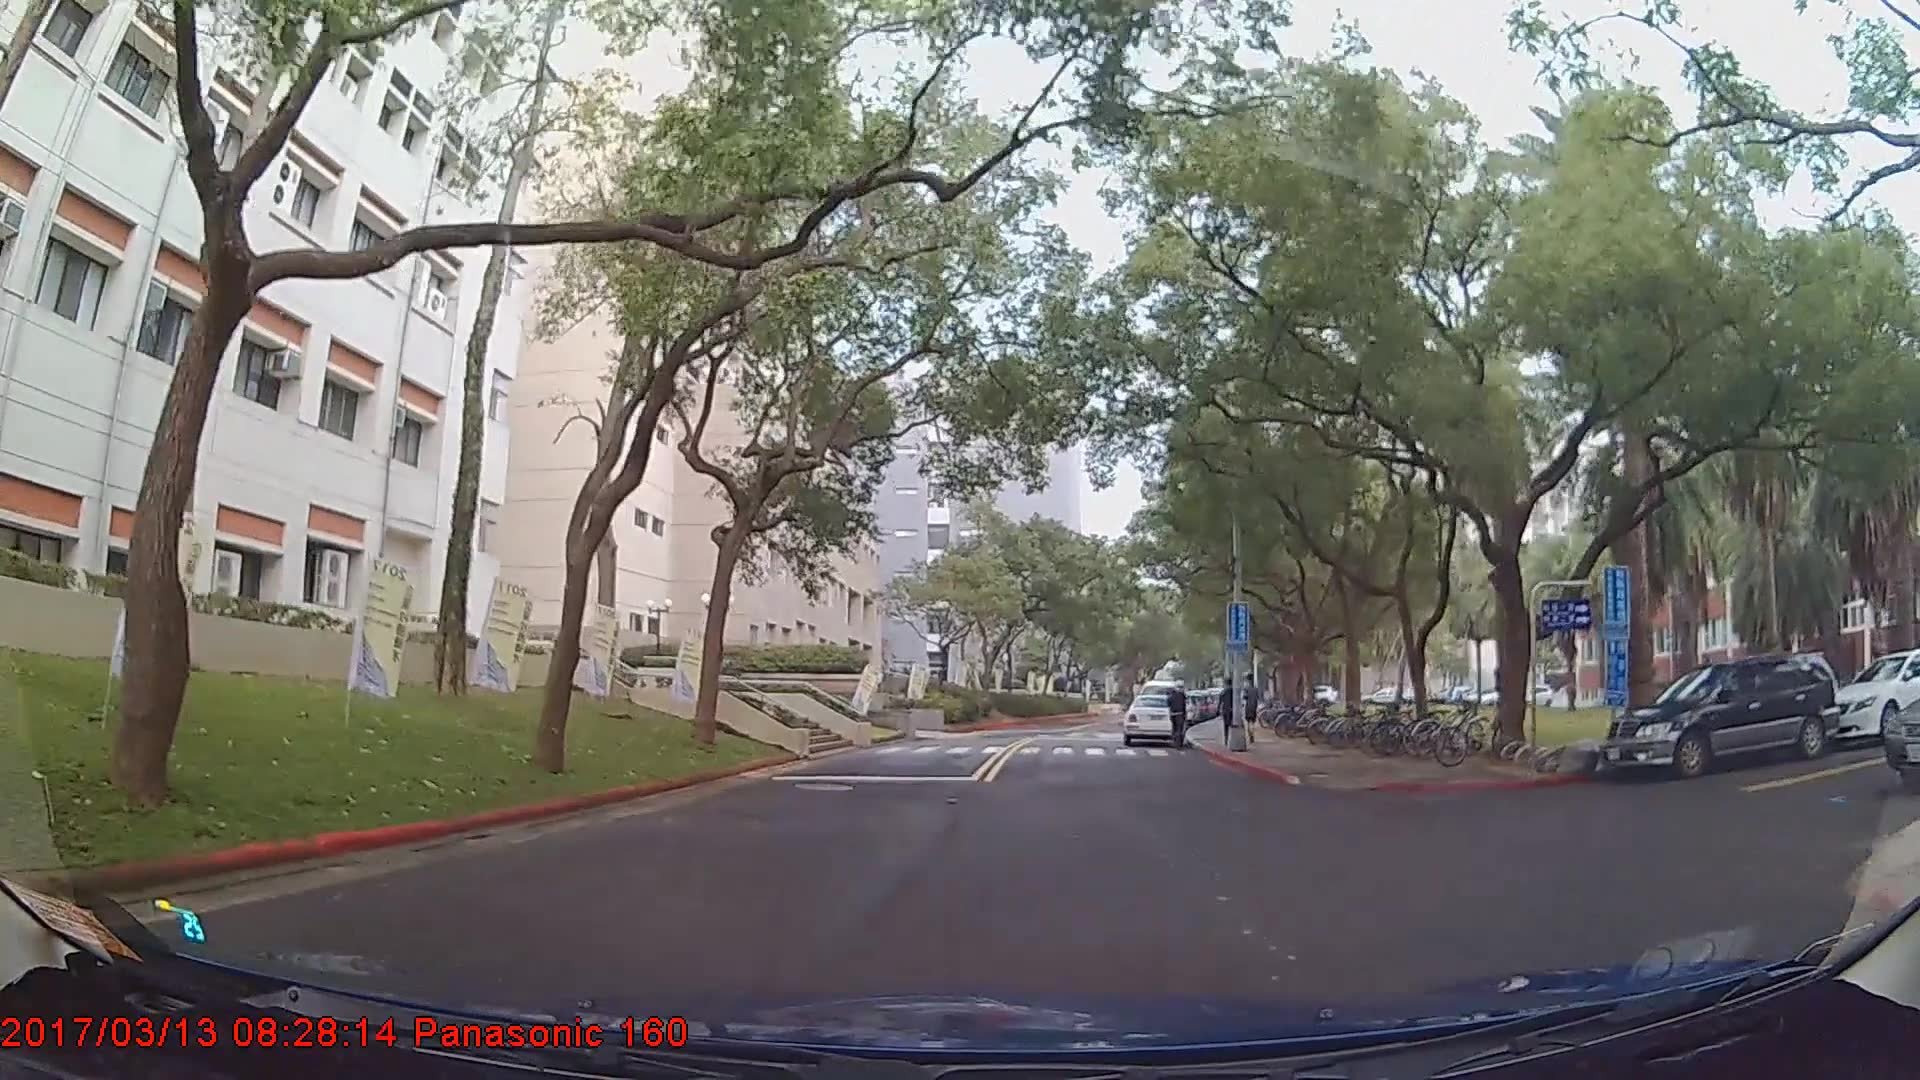pedestrian: (1217, 676, 1242, 746), (1164, 679, 1186, 752)
vehicle: (1600, 649, 1840, 782), (1828, 647, 1920, 742), (1119, 691, 1183, 743)
